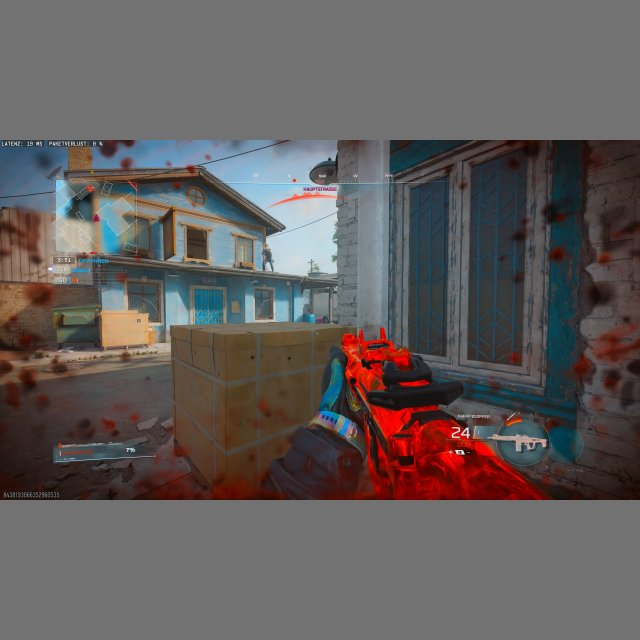player: (263, 245, 274, 271)
